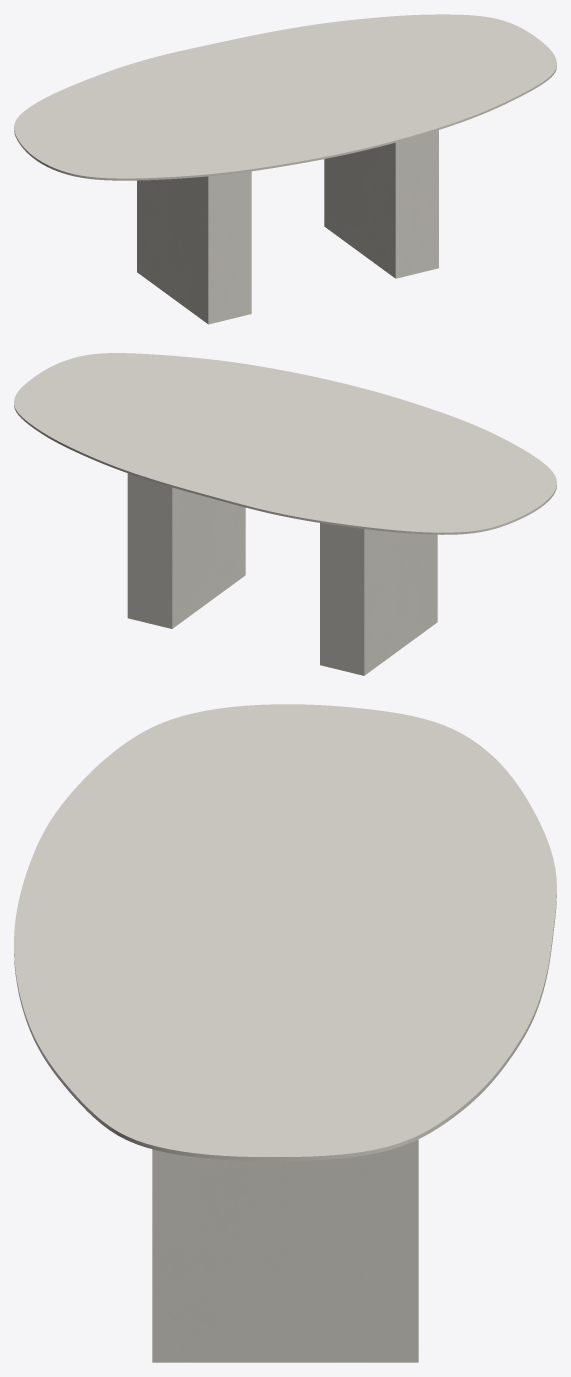
The model's file is pale_danish_facet_ridge.glb.
3 renders of one model, top to bottom at view 1: azimuth 30°, elevation 25°; view 2: azimuth 150°, elevation 25°; view 3: azimuth 270°, elevation 25°, orthographic. The views are drawn at different scales.
Parts seen in each view (by area): view 1: facet_danish, ridge; view 2: facet_danish, ridge; view 3: facet_danish, ridge.
Boxes of the visible parts, left/top/right/bottom form: facet_danish: left=14, top=14, right=556, bottom=180; ridge: left=137, top=130, right=438, bottom=324; facet_danish: left=14, top=353, right=556, bottom=534; ridge: left=127, top=473, right=437, bottom=675; facet_danish: left=14, top=704, right=556, bottom=1160; ridge: left=152, top=1139, right=418, bottom=1362.
Bounding box in the file's own units: 7.5 × 2.5 × 3.8.
Materials: 1 (1 with a texture image).
